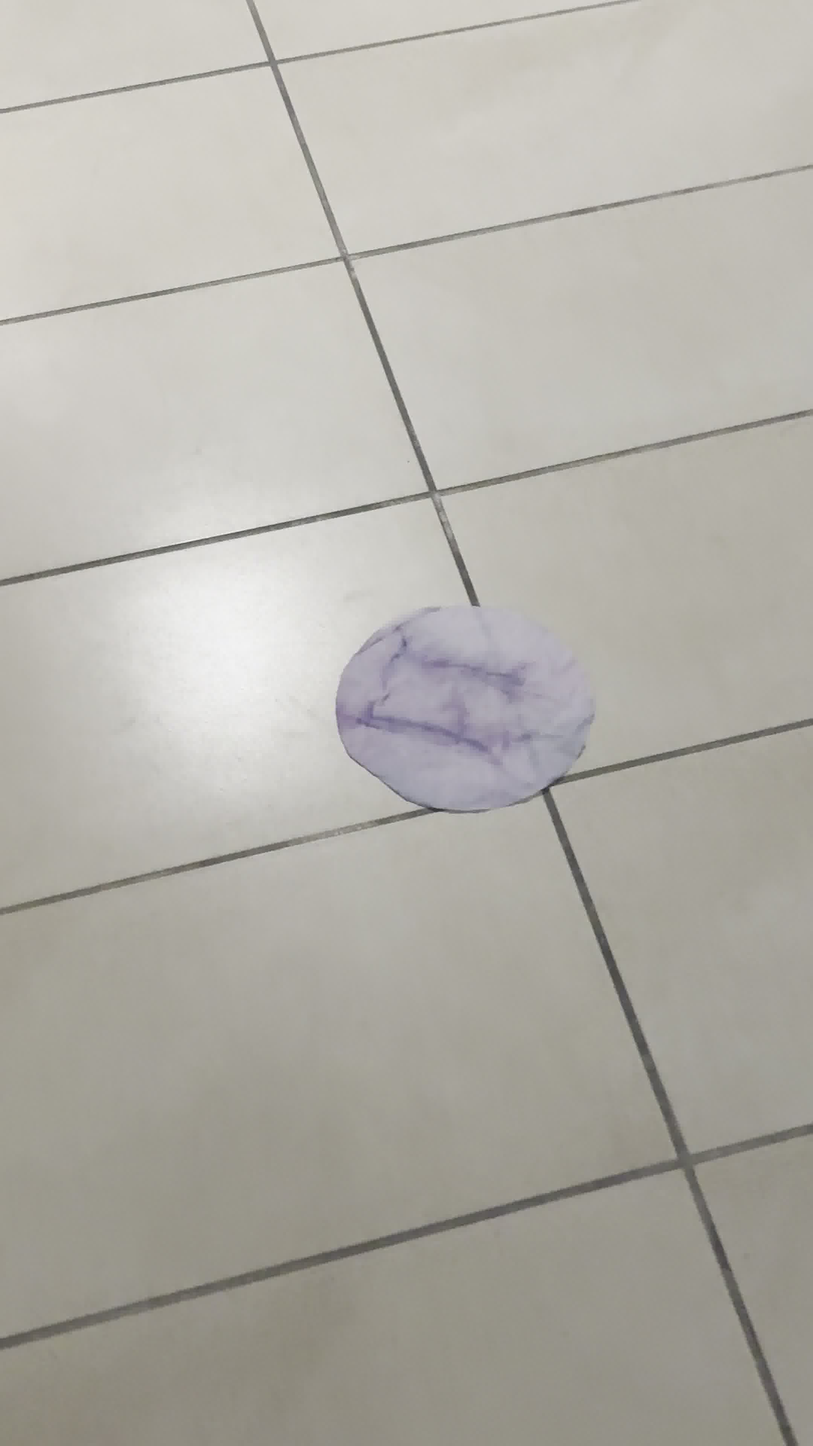Target: (336, 607, 602, 812)
